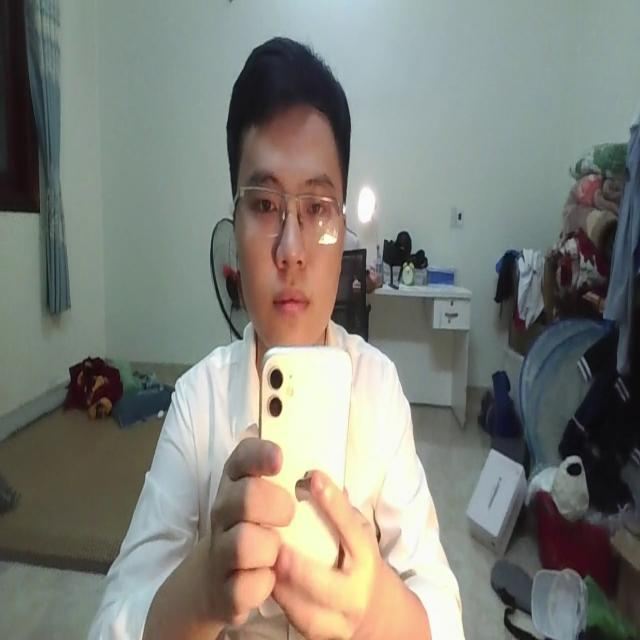phone: (256, 340, 354, 563)
student: (84, 37, 462, 640)
